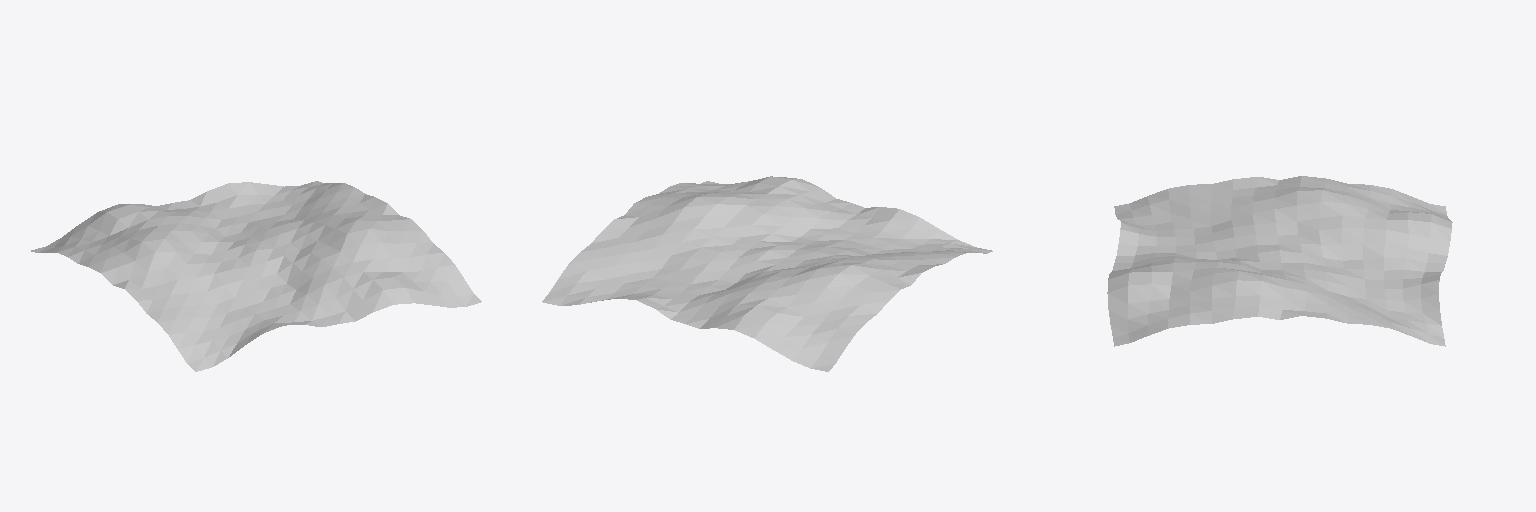
The model's file is water_000073.obj.
3 renders of one model, left to right at view 1: azimuth 30°, elevation 25°; view 2: azimuth 150°, elevation 25°; view 3: azimuth 270°, elevation 25°, orthographic.
Visible parts, largest first — view 1: Plan.003_Plan.001; view 2: Plan.003_Plan.001; view 3: Plan.003_Plan.001.
Boxes of the visible parts, x1,y1,x2,y2 form: Plan.003_Plan.001: [31, 181, 481, 371]; Plan.003_Plan.001: [542, 176, 992, 371]; Plan.003_Plan.001: [1107, 176, 1452, 346].
Size of the model in its own units: 60668 by 8334 by 62817.